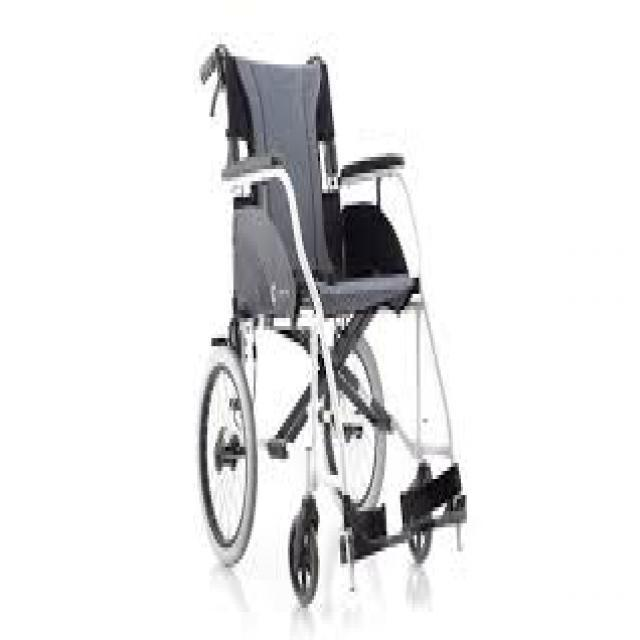wheelchair: (169, 28, 487, 632)
